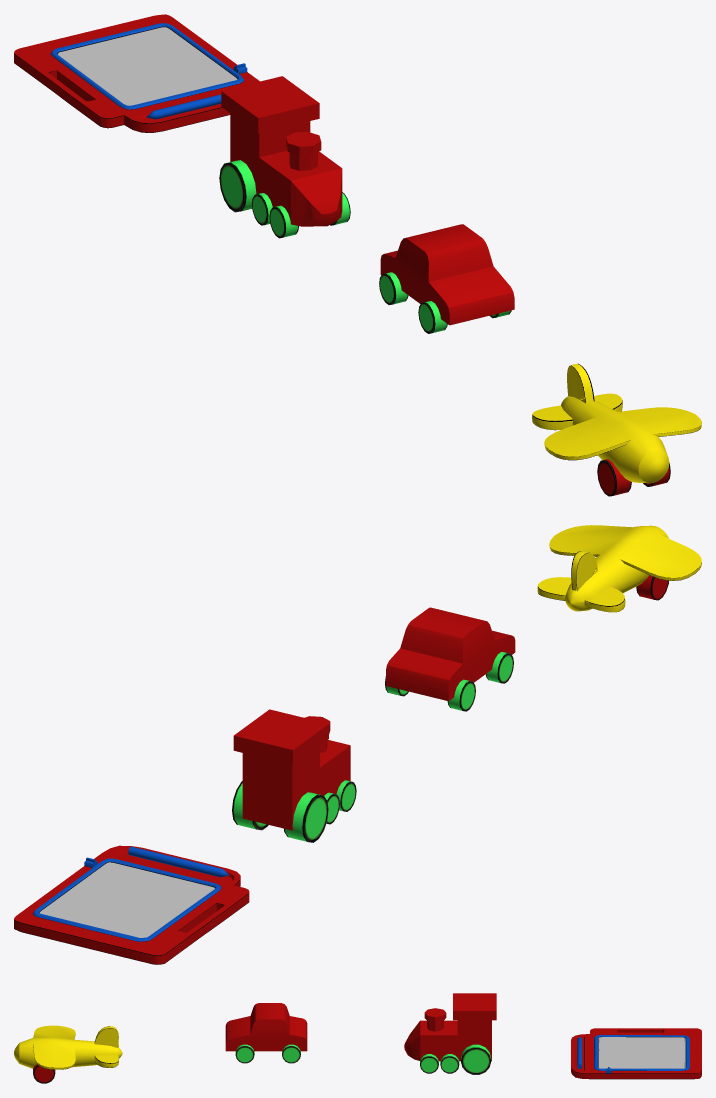
The model's file is Toys.fbx.
The picture shows the model from 3 angles, top to bottom: view 1: azimuth 30°, elevation 25°; view 2: azimuth 150°, elevation 25°; view 3: azimuth 270°, elevation 25°; orthographic projection. The views are drawn at different scales.
Parts seen in each view (by area): view 1: MagicBoard, ToyTrain, ToyPlane, ToyCar; view 2: MagicBoard, ToyTrain, ToyPlane, ToyCar; view 3: MagicBoard, ToyTrain, ToyPlane, ToyCar.
Boxes of the visible parts, x1=… form: MagicBoard: x1=14, y1=14, x2=259, y2=132; ToyTrain: x1=219, y1=76, x2=350, y2=238; ToyPlane: x1=532, y1=363, x2=701, y2=496; ToyCar: x1=379, y1=224, x2=514, y2=333; MagicBoard: x1=14, y1=845, x2=249, y2=964; ToyTrain: x1=232, y1=709, x2=356, y2=842; ToyPlane: x1=537, y1=525, x2=701, y2=612; ToyCar: x1=385, y1=607, x2=515, y2=711; MagicBoard: x1=571, y1=1028, x2=701, y2=1079; ToyTrain: x1=404, y1=993, x2=496, y2=1074; ToyPlane: x1=14, y1=1025, x2=122, y2=1083; ToyCar: x1=225, y1=1003, x2=307, y2=1063.
Size of the model in its own units: 4.23 by 3.11 by 26.27.
